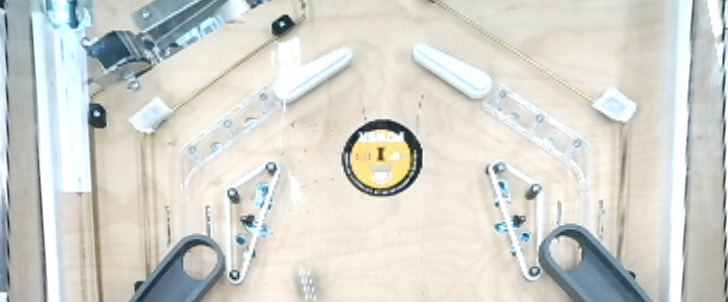ball: (289, 266, 328, 302)
flipper-left: (407, 34, 498, 104)
flipper-right: (265, 38, 356, 102)
